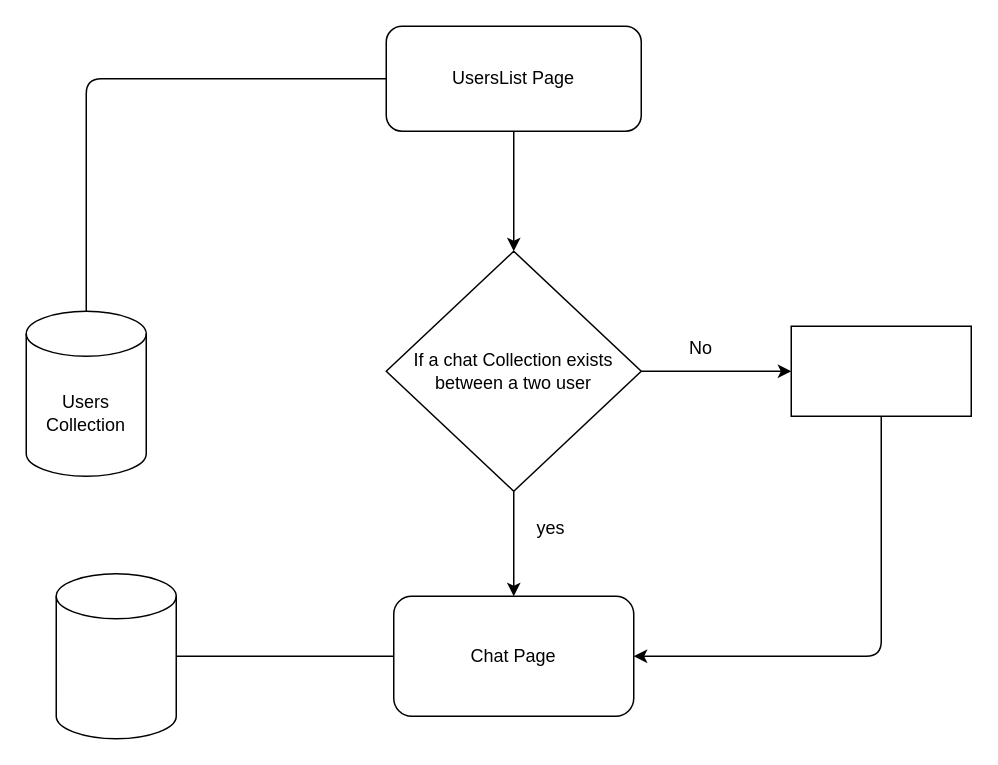
Image size: 998x765. Some labels were removed from this diagram. Here are the shapes that lost their labels. From the top down, the centre of each, then its label:
At point 880,370: "Create a collection between two users".
At point 115,655: "Chat Collection".
